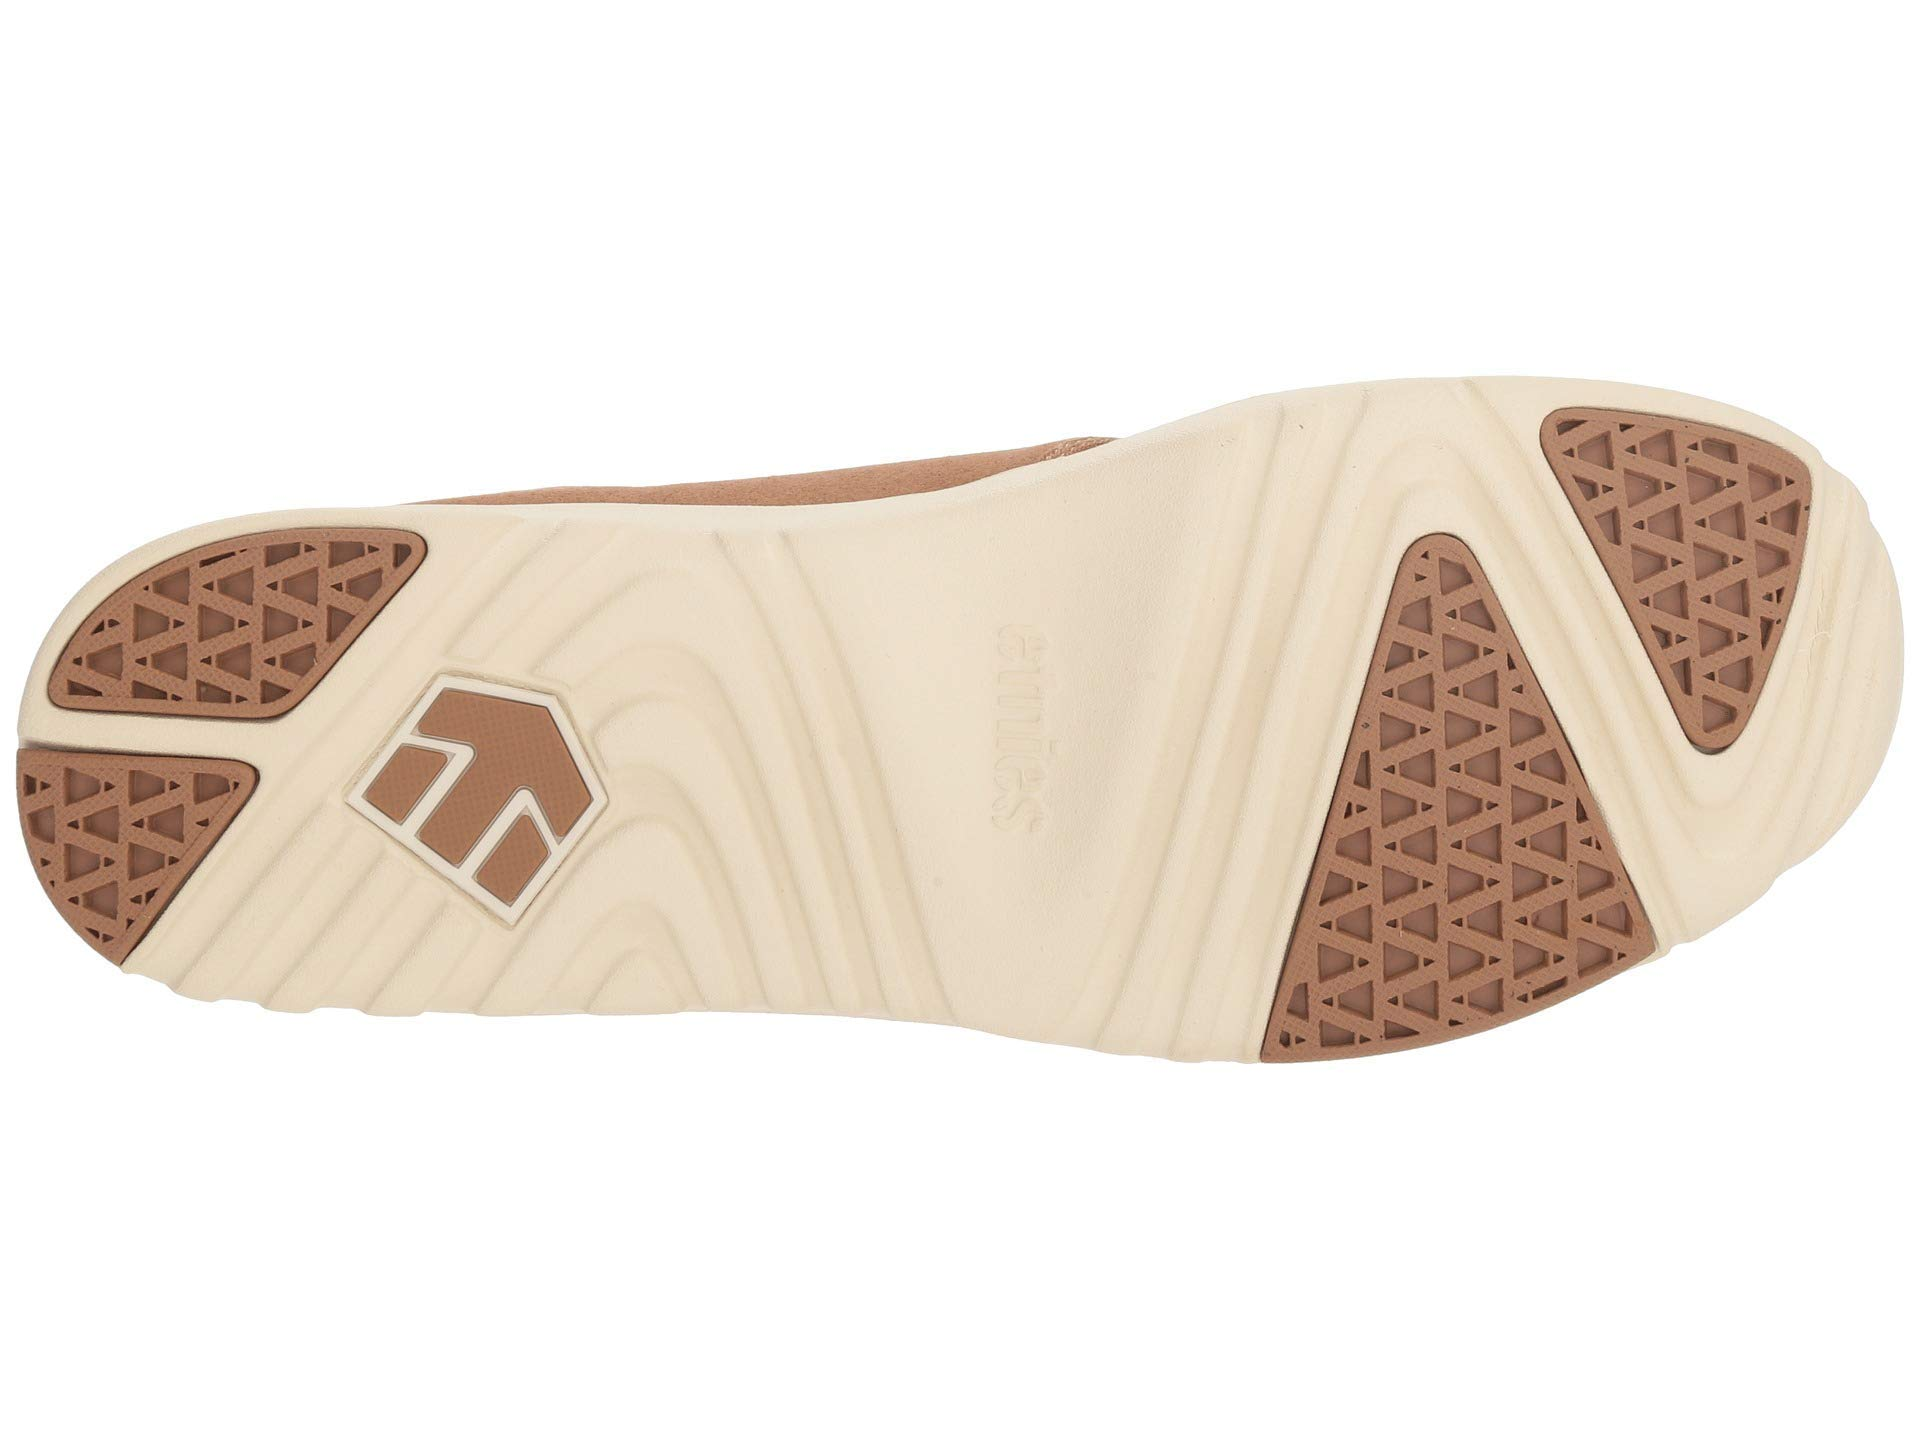chevron: (1556, 414, 1855, 759), (1358, 646, 1606, 920)
triangle: (1556, 414, 1855, 759), (1358, 646, 1606, 920)
